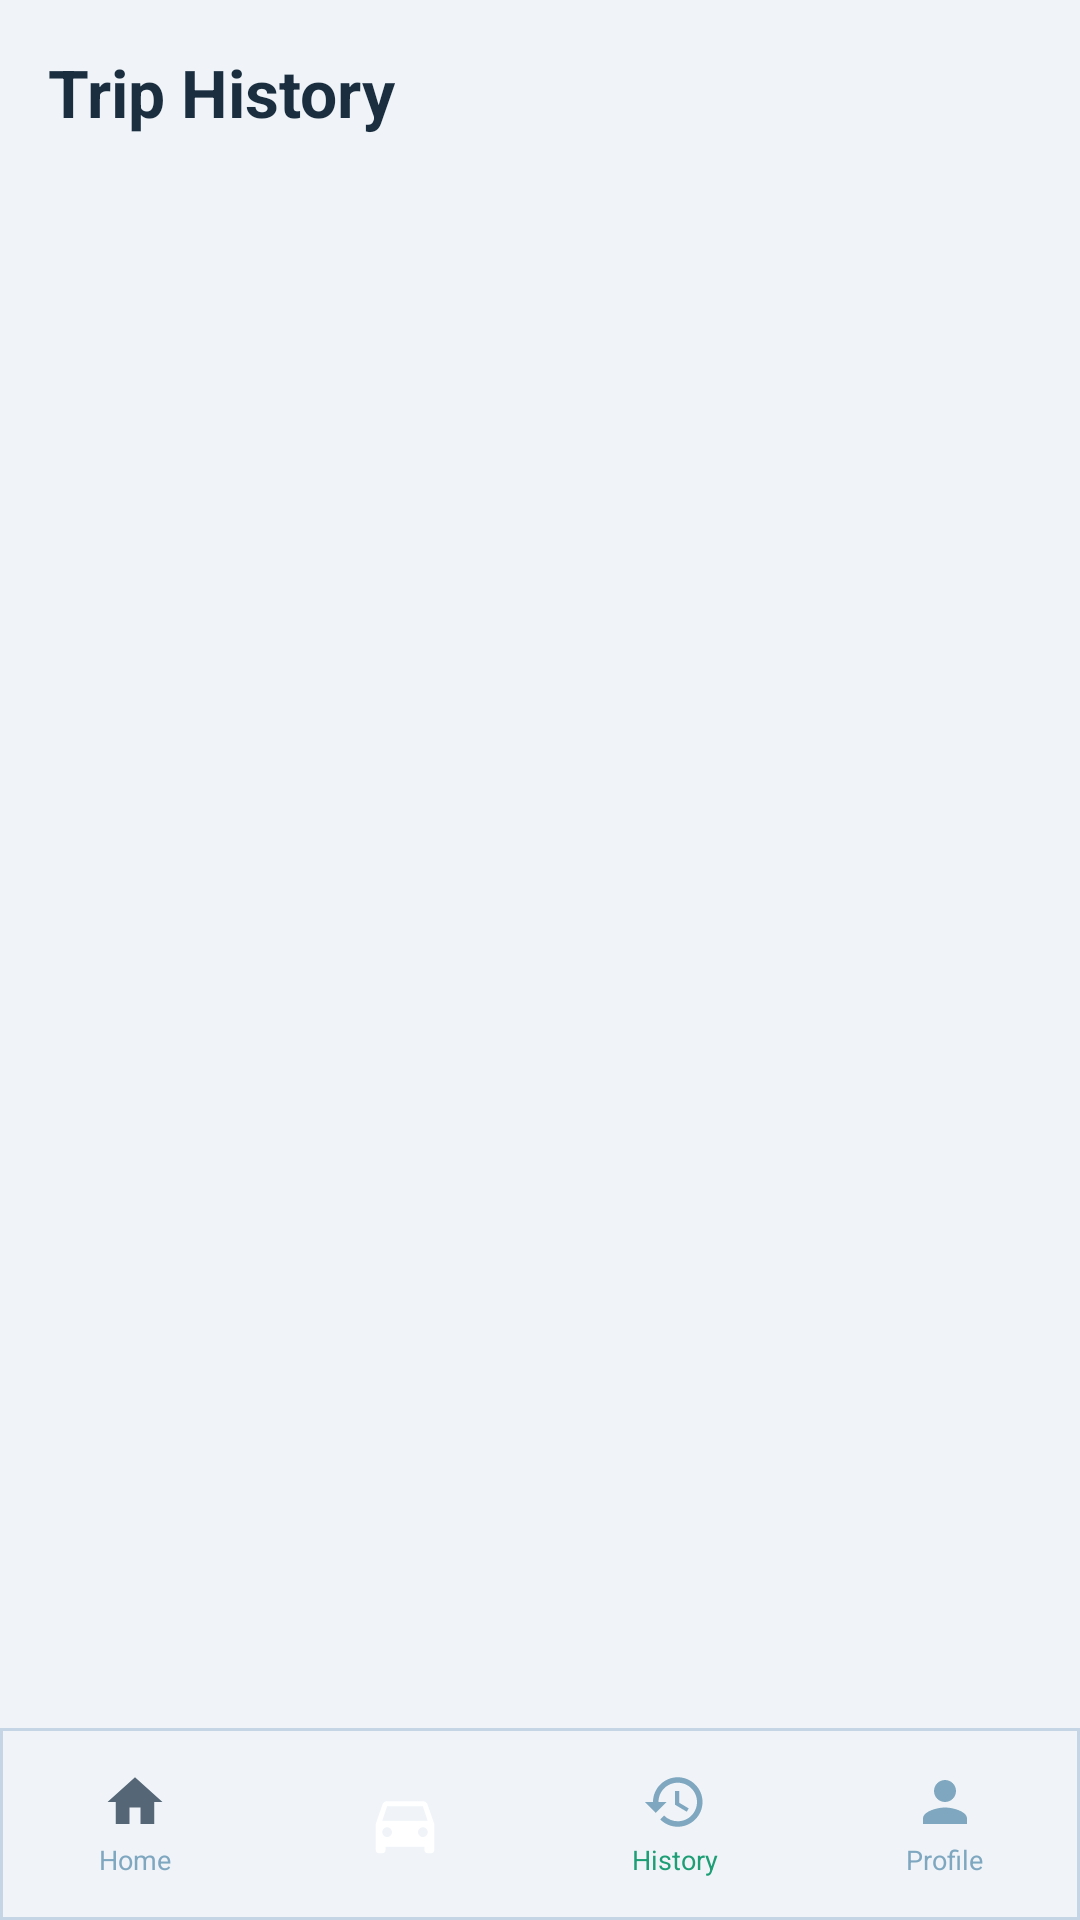

Where to tap for icons on this 1080 x 1920 app screen, as [x,y]:
person: [945,1802]
